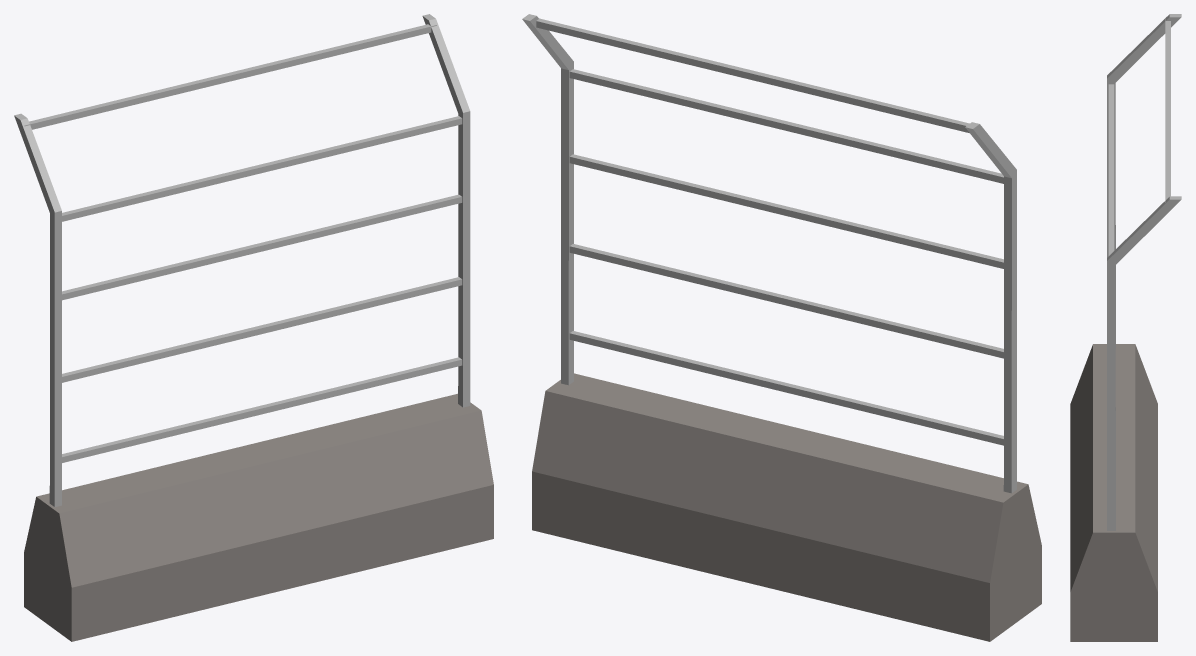
The model's file is prp_1.fbx.
3 views of the same model, side by side, from view 1: azimuth 30°, elevation 25°; view 2: azimuth 150°, elevation 25°; view 3: azimuth 270°, elevation 25° (orthographic). The views are drawn at different scales.
Parts seen in each view (by area): view 1: pCube18; view 2: pCube18; view 3: pCube18.
Boxes of the visible parts, x1,y1,x2,y2 form: pCube18: [14, 14, 493, 641]; pCube18: [522, 14, 1041, 641]; pCube18: [1070, 14, 1181, 641].
Bounding box in the file's own units: 6.8 × 7.41 × 1.69.
